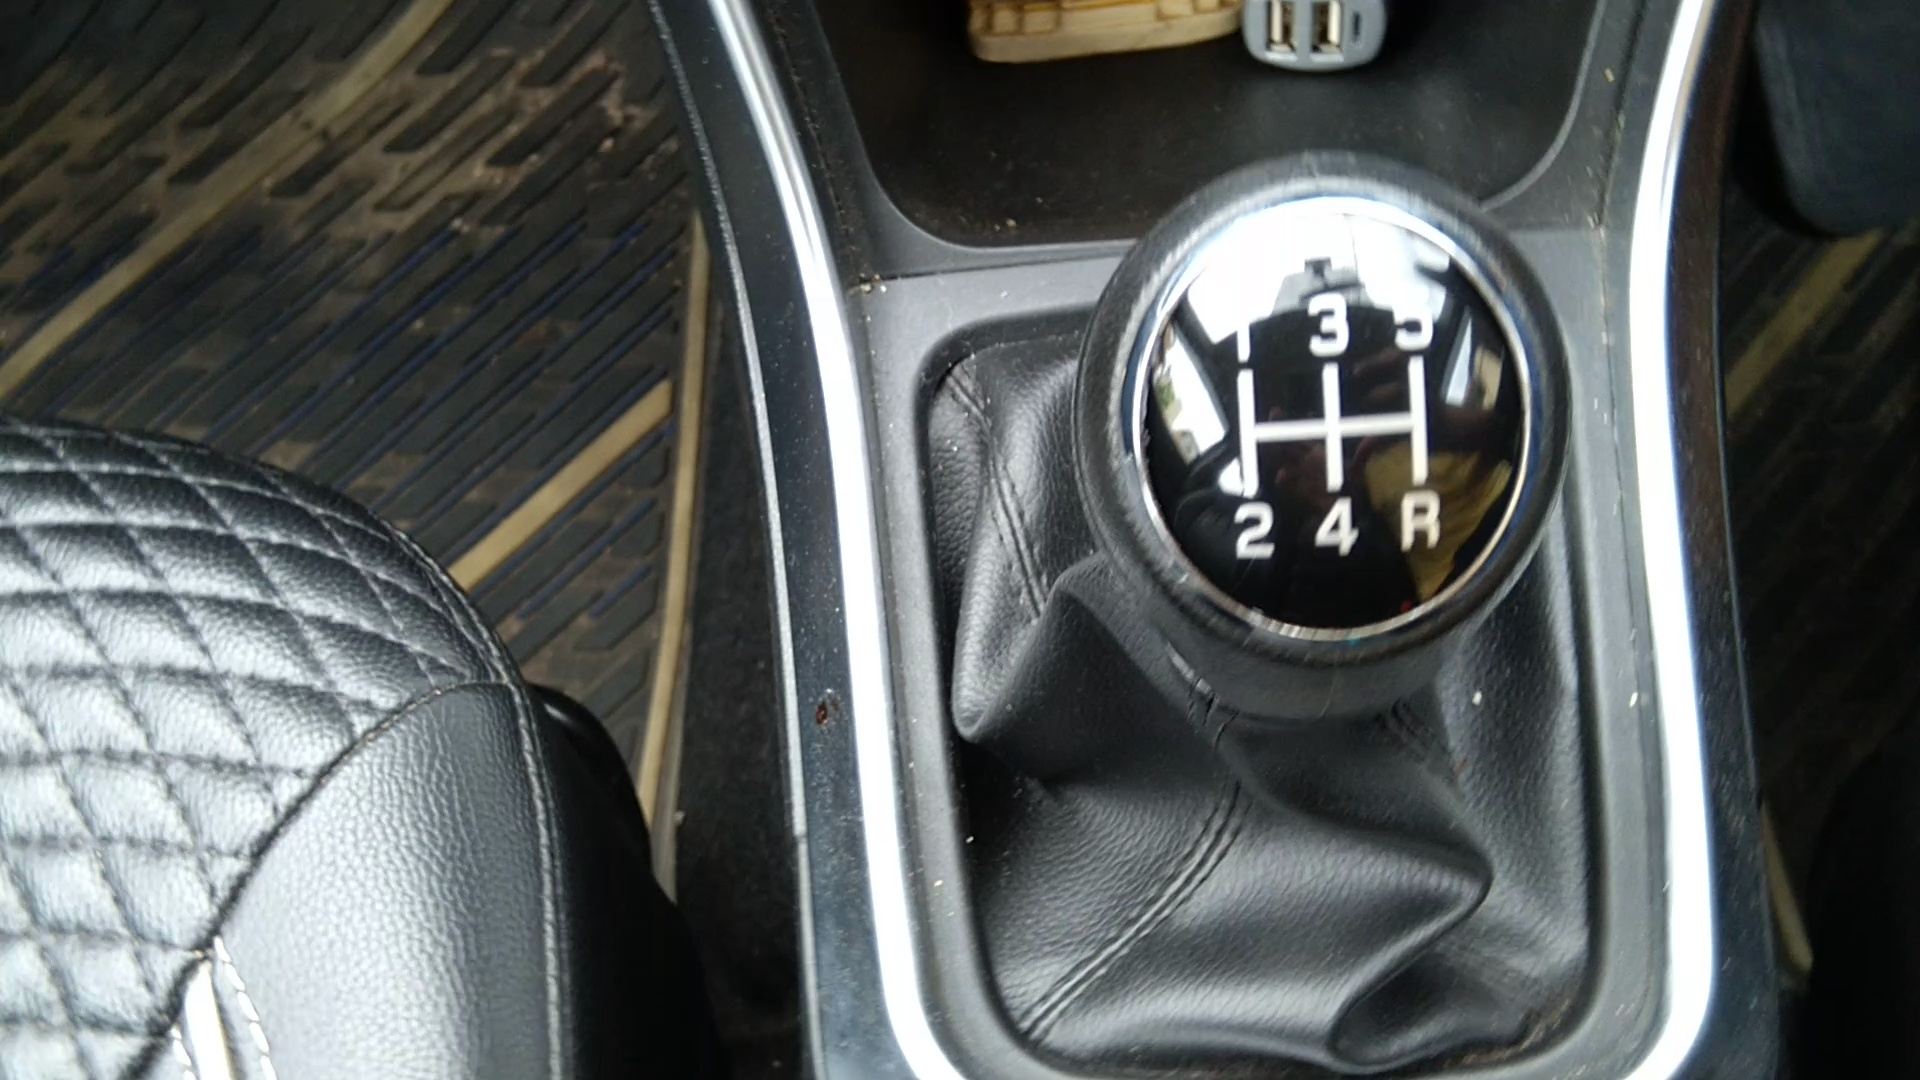manual_gear: (1054, 146, 1569, 760)
